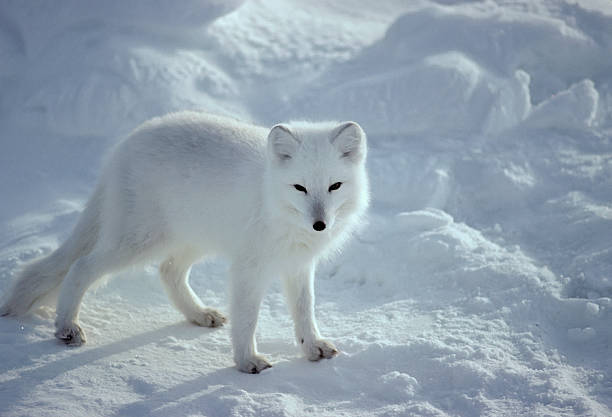arcticfox: (275, 150, 359, 246)
